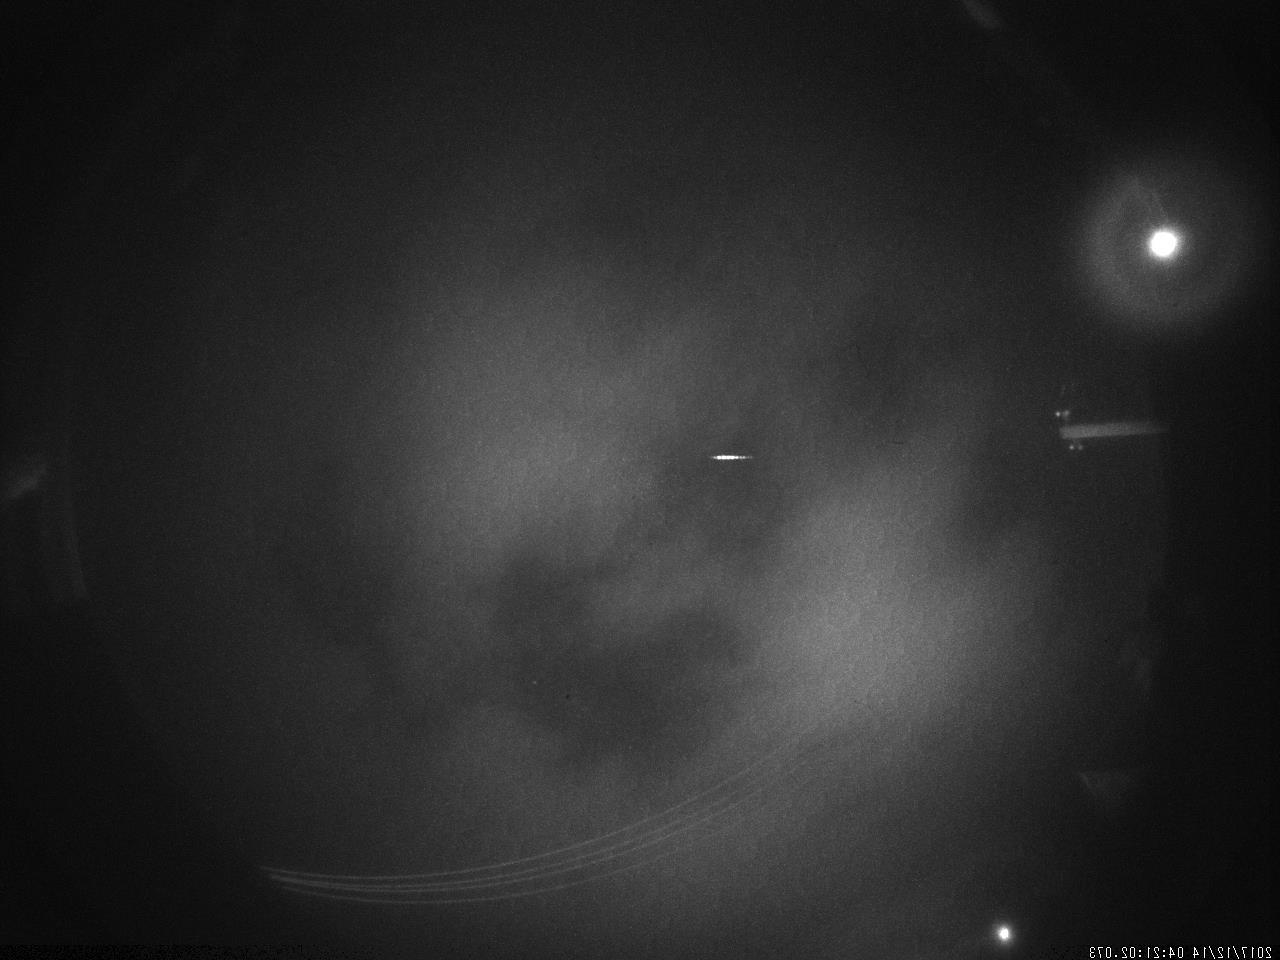meteor: (698, 433, 784, 469)
